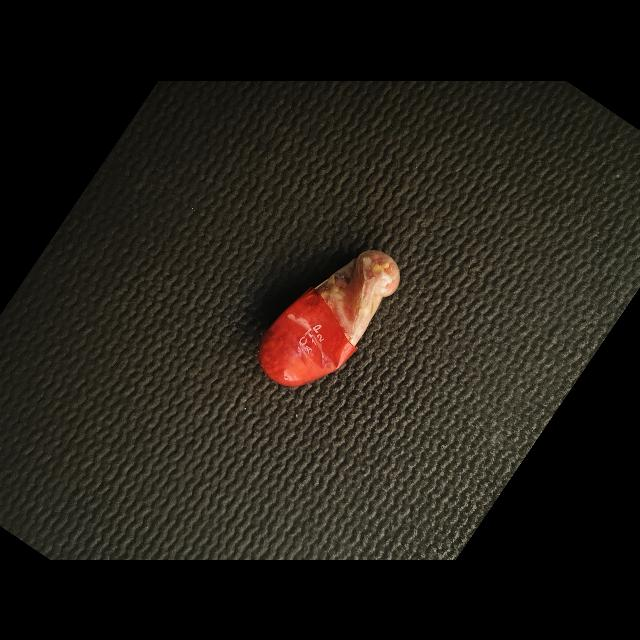Defective Capsule: (258, 250, 400, 386)
